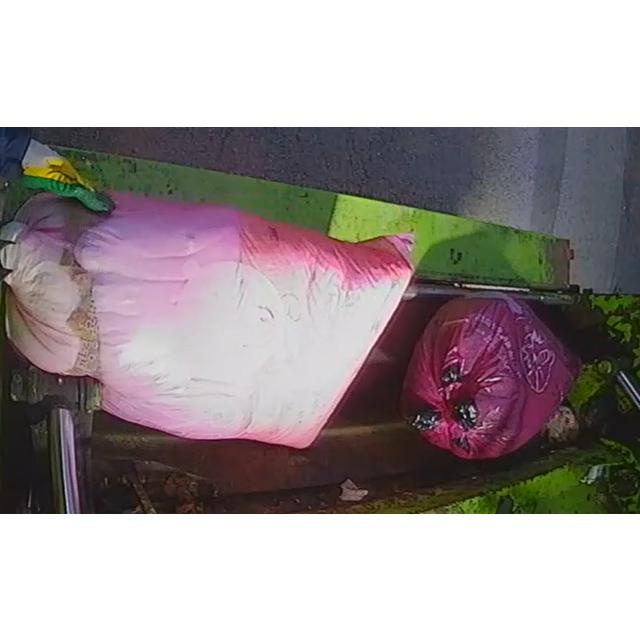other_trashbag: (0, 192, 412, 447), (400, 296, 579, 458)
